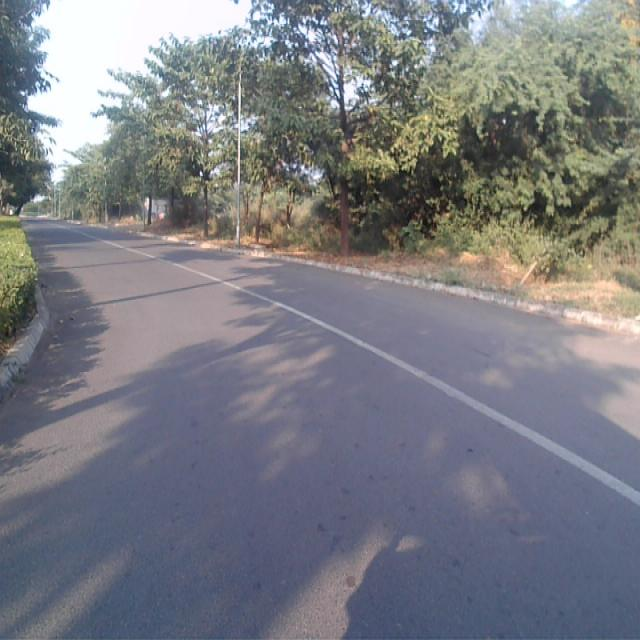lane: (0, 222, 640, 640)
